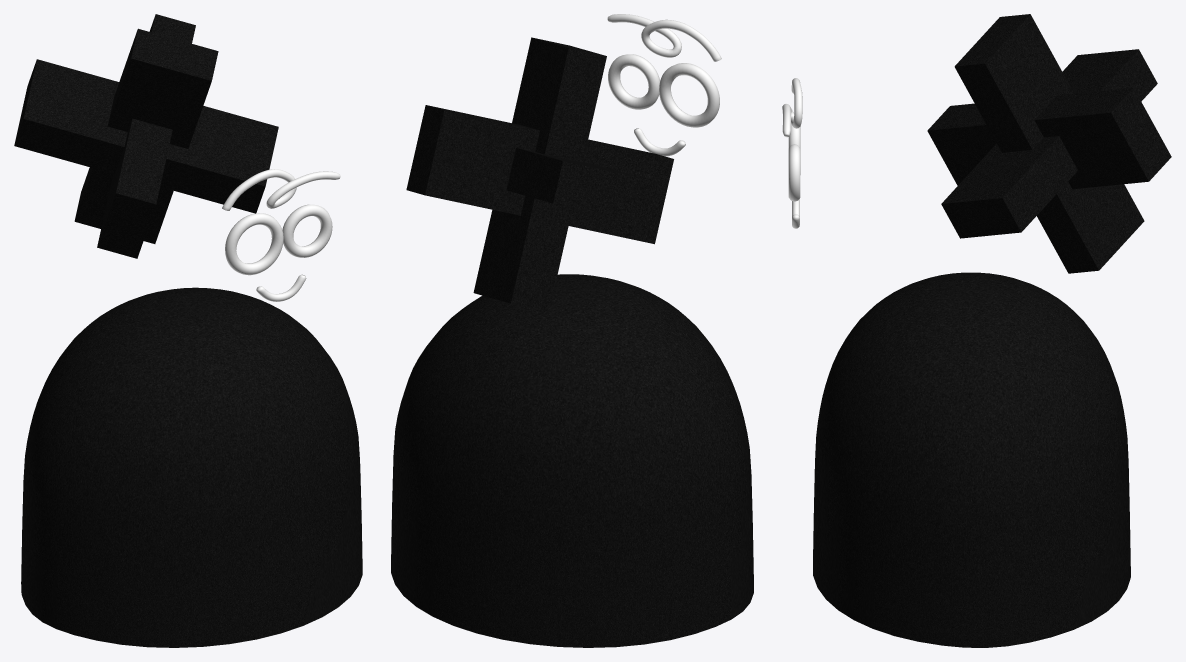
The model's file is maosun.glb.
3 views of the same model, side by side, from view 1: azimuth 30°, elevation 25°; view 2: azimuth 150°, elevation 25°; view 3: azimuth 270°, elevation 25° (orthographic). The views are drawn at different scales.
Parts seen in each view (by area): view 1: body, pCube3, pCube2, pCube1, face7, pCube4, pCube6, pCube5; view 2: body, pCube2, pCube1, pCube5, face7, pCube4, pCube6, pCube3; view 3: body, pCube6, pCube1, pCube4, pCube2, pCube5, pCube3, face7.
Part boxes in pixels (box(x1,y1,x2,y2)): body: box(21, 287, 362, 647); pCube3: box(14, 89, 271, 213); pCube2: box(74, 28, 177, 228); pCube1: box(106, 14, 195, 231); face7: box(222, 169, 340, 301); pCube4: box(21, 59, 278, 156); pCube6: box(143, 40, 218, 243); pCube5: box(97, 162, 146, 258); body: box(391, 274, 753, 647); pCube2: box(492, 42, 606, 311); pCube1: box(416, 105, 673, 201); pCube5: box(406, 147, 664, 244); face7: box(607, 14, 721, 156); pCube4: box(506, 148, 600, 211); pCube6: box(473, 37, 585, 297); pCube3: box(567, 159, 639, 219); body: box(813, 272, 1130, 647); pCube6: box(954, 39, 1121, 273); pCube1: box(927, 88, 1152, 165); pCube4: box(972, 49, 1157, 235); pCube2: box(977, 14, 1144, 245); pCube5: box(946, 122, 1171, 189); pCube3: box(941, 52, 1107, 238); face7: box(782, 78, 802, 228).
Bounding box in the file's own units: 0.2183 × 0.3567 × 0.2316.
Materials: 3 (3 with a texture image).
